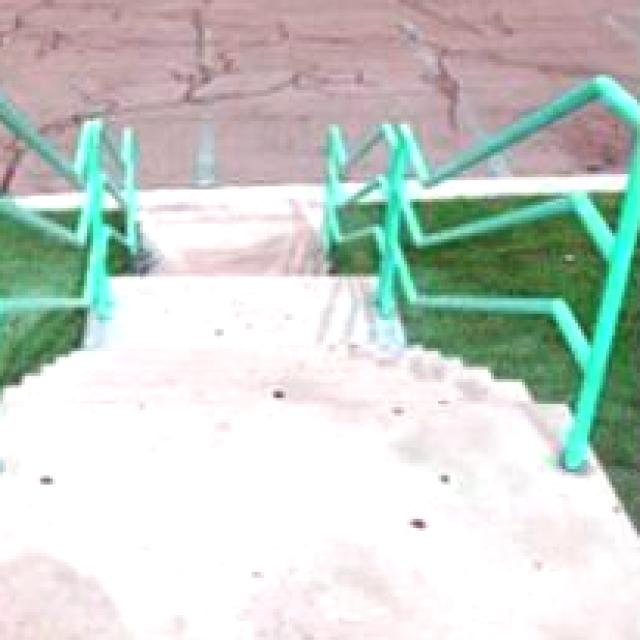downstair: (1, 302, 563, 494)
